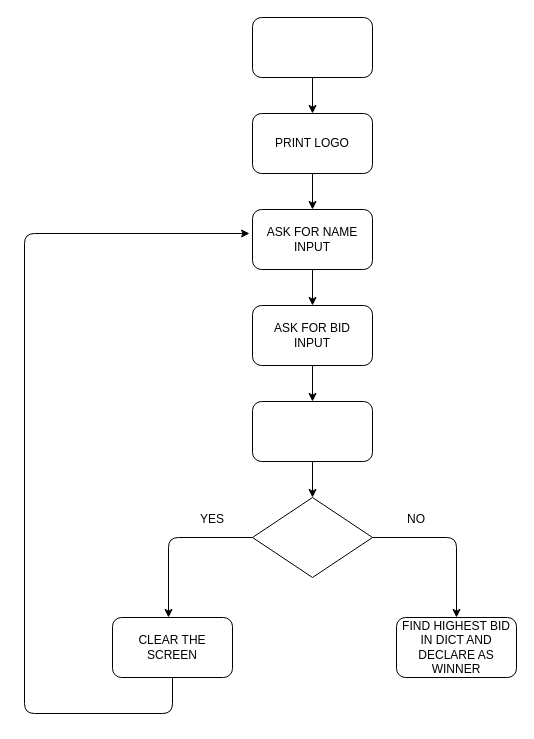
This 534x739 diagram has some shape labels left out. The centre of each missing label's shape, as x and y in pixels:
"ASK IF THERE ARE OTHER USERS WHO WANT TO BID" goes at point 312,537.
"START" goes at point 312,47.
"STORE BID DICT: KEY, VALUE" goes at point 312,431.
